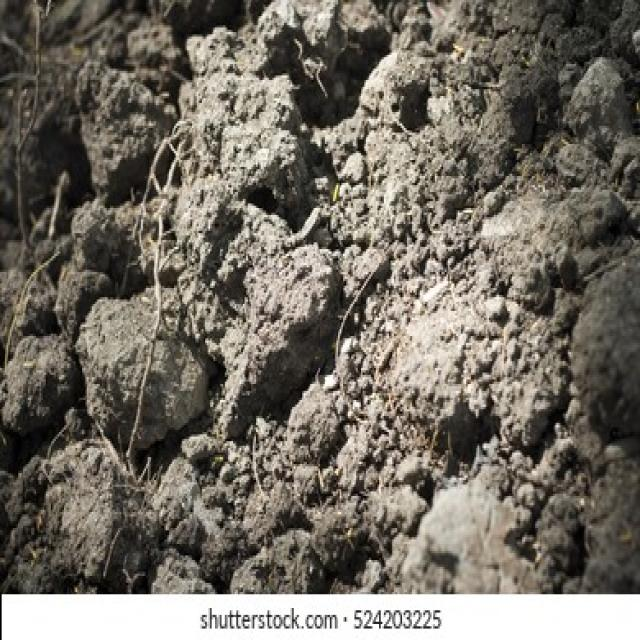Alluvial Soil: (67, 63, 305, 556), (362, 77, 598, 547)
